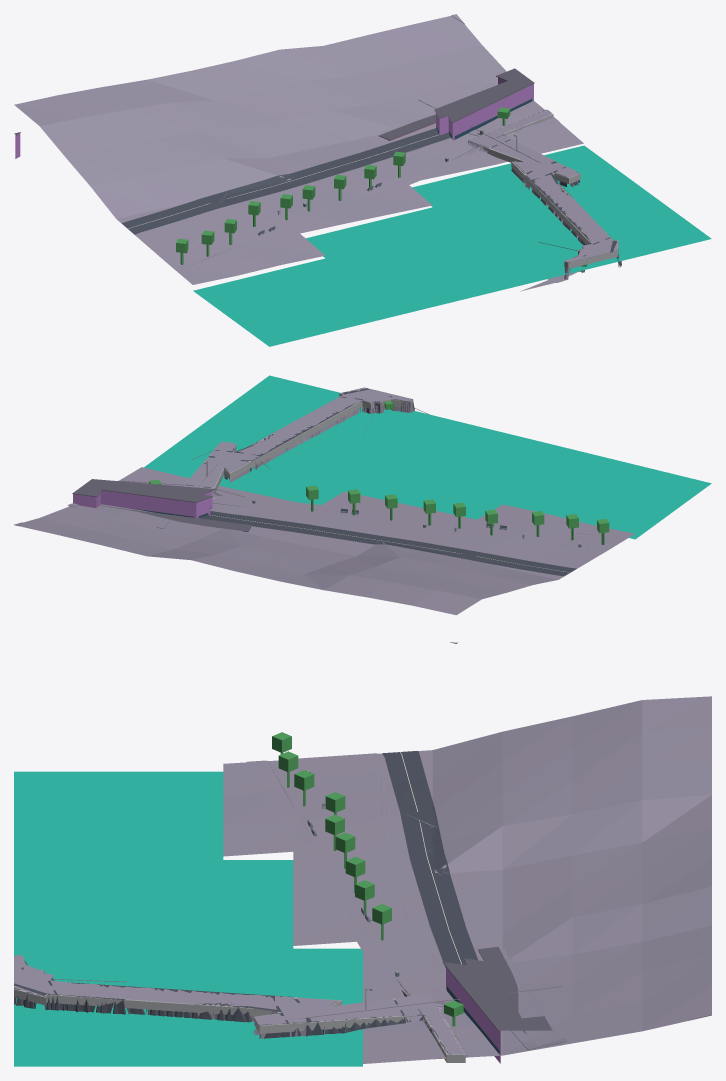
3 renders of one model, top to bottom at view 1: azimuth 30°, elevation 25°; view 2: azimuth 150°, elevation 25°; view 3: azimuth 270°, elevation 25°, orthographic. The views are drawn at different scales.
Parts seen in each view (by area): view 1: compiled-chunk; view 2: compiled-chunk; view 3: compiled-chunk.
Boxes of the visible parts, x1,y1,x2,y2 form: compiled-chunk: (14, 14, 711, 346); compiled-chunk: (14, 375, 711, 643); compiled-chunk: (14, 696, 711, 1066).
Size of the model in its own units: 120 by 15.89 by 120.
